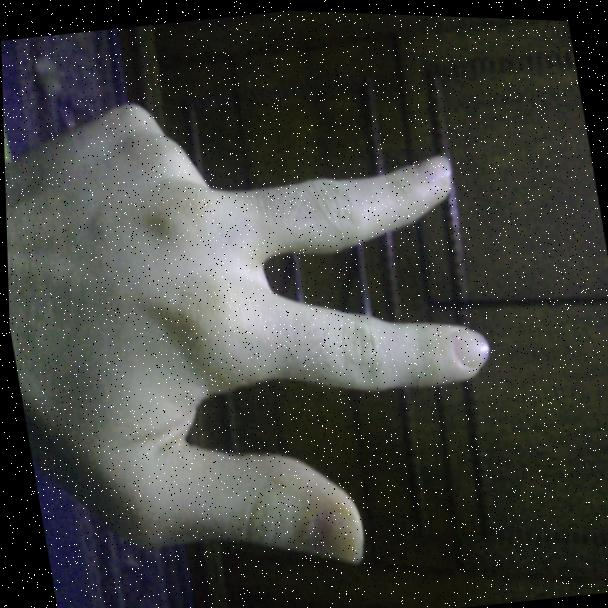three: (1, 37, 532, 604)
